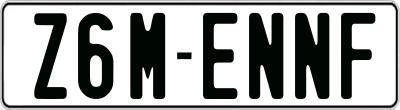6: (76, 13, 115, 103)
E: (203, 10, 242, 97)
F: (341, 10, 377, 97)
M: (128, 11, 166, 100)
N: (294, 11, 329, 102), (246, 10, 280, 96)
Z: (34, 11, 73, 99)
